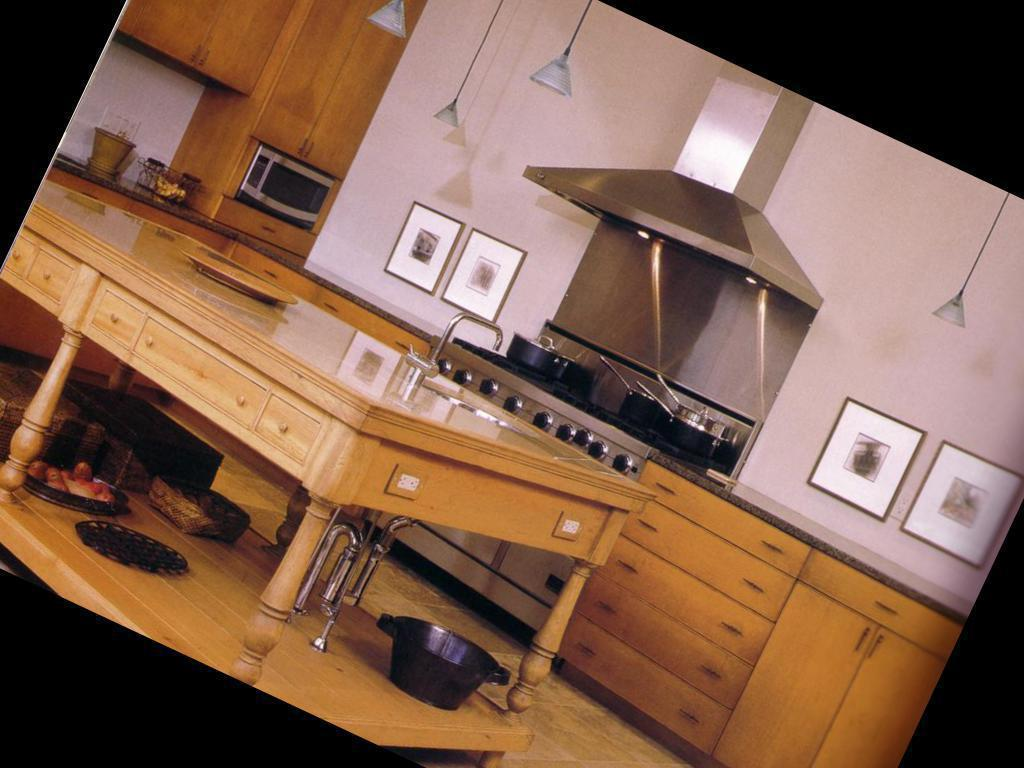Electrodomestico: (427, 328, 666, 465)
Lavaplatos: (379, 269, 615, 466)
